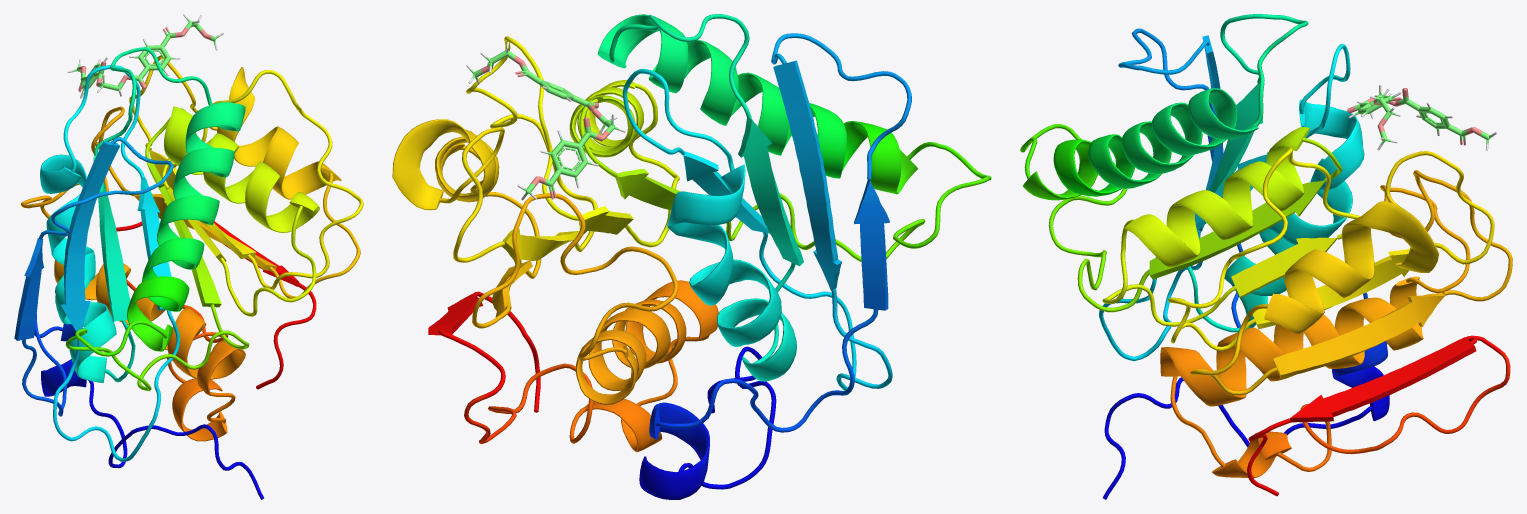
File: petase_pet_mt1_andrew.gltf
The picture shows the model from 3 angles, left to right: view 1: azimuth 30°, elevation 25°; view 2: azimuth 150°, elevation 25°; view 3: azimuth 270°, elevation 25°; orthographic projection. The views are drawn at different scales.
Parts seen in each view (by area): view 1: node-geom118, node-geom119; view 2: node-geom118, node-geom119; view 3: node-geom119, node-geom118.
Part boxes in pixels (x1,y1,x2,y2): node-geom118: (14, 47, 319, 499); node-geom119: (21, 55, 363, 441); node-geom118: (569, 14, 991, 499); node-geom119: (392, 36, 718, 452); node-geom119: (1102, 128, 1512, 496); node-geom118: (1020, 14, 1389, 499).
Size of the model in its own units: 41.1 by 43.93 by 43.12.
